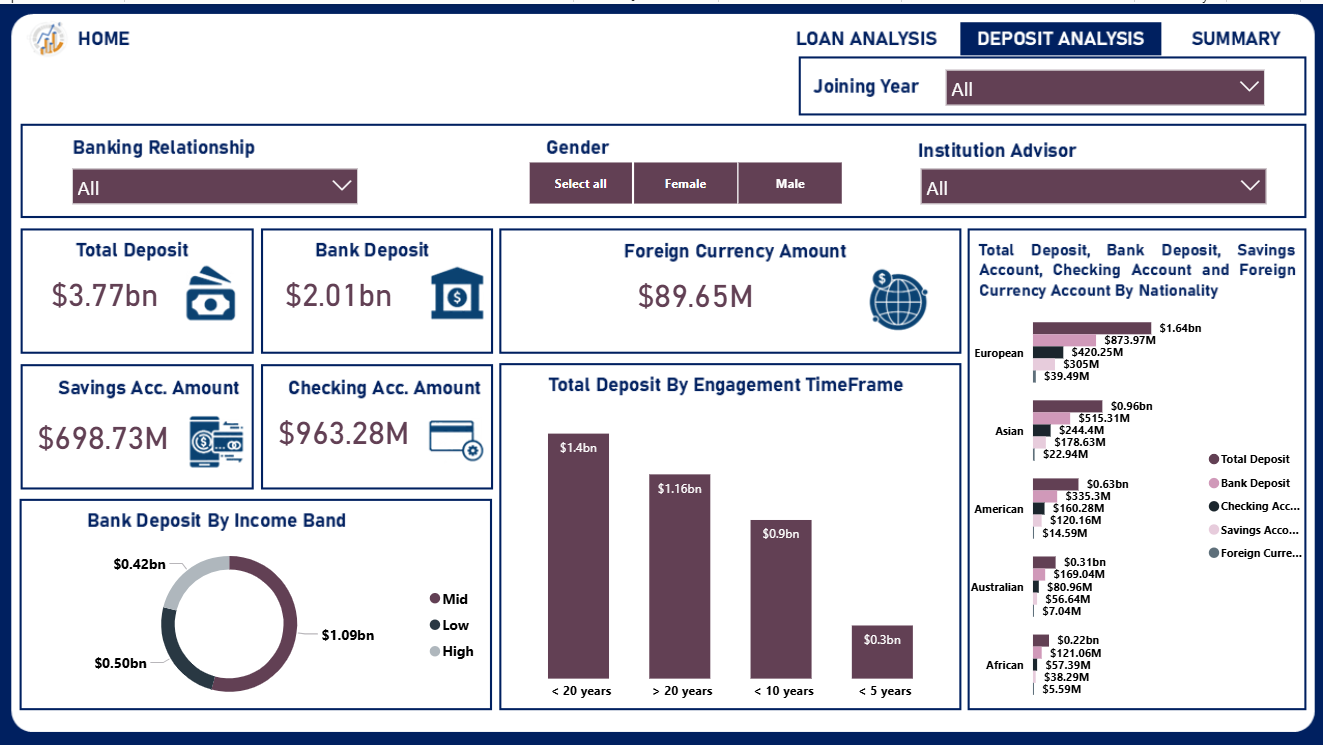

What the dashboard file says about the page in this screenshot:
{"tool":"powerbi","page":{"name":"Deposit Analysis","canvas":[1280,720],"ordinal":2},"visuals":[{"type":"slicer","fields":{"Values":["banking_clients_cleaned.Joined Bank.Variation.Date Hierarchy.Year"]},"box":[902.5,52.5,328.8,50],"z":0},{"type":"card","fields":{"Values":["Dax Measures.Bank Deposit"]},"box":[240,245,173.8,68.8],"z":1000},{"type":"card","fields":{"Values":["Dax Measures.Savings Account"]},"box":[17.5,378.8,162.5,76.2],"z":2000},{"type":"card","fields":{"Values":["Dax Measures.Checking Account"]},"box":[250,368.8,163.8,86.2],"z":3000},{"type":"card","fields":{"Values":["Dax Measures.Foreign Currency Account"]},"box":[557.5,235,227.5,88.8],"z":4000},{"type":"card","fields":{"Values":["Dax Measures.Total Deposit"]},"box":[17.5,240,166.2,78.8],"z":5000},{"type":"slicer","fields":{"Values":["banking-realtionships.Banking Relationship"]},"box":[58.8,148.8,296.2,50],"z":6000},{"type":"slicer","fields":{"Values":["gender.Gender"]},"box":[485,146.2,351.2,53.8],"z":7000},{"type":"slicer","fields":{"Values":["investment-advisiors.Investment Advisor"]},"box":[878.8,148.8,353.8,51.2],"z":8000},{"type":"clusteredBarChart","fields":{"Category":["banking_clients_cleaned.Nationality"],"Y":["Dax Measures.Total Deposit","Dax Measures.Bank Deposit","Dax Measures.Checking Account","Dax Measures.Savings Account","Dax Measures.Foreign Currency Account"]},"box":[930,263.8,341.2,440],"z":9000},{"type":"clusteredColumnChart","fields":{"Category":["banking_clients_cleaned.Engagement TimeFrame"],"Y":["Dax Measures.Total Deposit"]},"box":[485,378.8,445,302.5],"z":10000},{"type":"donutChart","fields":{"Category":["banking_clients_cleaned.Income Band"],"Y":["Dax Measures.Bank Deposit"]},"box":[23.8,508.8,447.5,178.8],"z":11000}]}

Visuals, with their boxes in screenshot pixels (x1, y1, x2, y2), scaled from the page's 1280x720 canvas onto the 1323x745 screenshot:
slicer - banking_clients_cleaned.Joined Bank.Variation.Date Hierarchy.Year: bbox=[933, 54, 1273, 106]
card - Dax Measures.Bank Deposit: bbox=[248, 254, 428, 325]
card - Dax Measures.Savings Account: bbox=[18, 392, 186, 471]
card - Dax Measures.Checking Account: bbox=[258, 382, 428, 471]
card - Dax Measures.Foreign Currency Account: bbox=[576, 243, 811, 335]
card - Dax Measures.Total Deposit: bbox=[18, 248, 190, 330]
slicer - banking-realtionships.Banking Relationship: bbox=[61, 154, 367, 206]
slicer - gender.Gender: bbox=[501, 151, 864, 207]
slicer - investment-advisiors.Investment Advisor: bbox=[908, 154, 1274, 207]
clusteredBarChart - banking_clients_cleaned.Nationality x Dax Measures.Total Deposit: bbox=[961, 273, 1314, 728]
clusteredColumnChart - banking_clients_cleaned.Engagement TimeFrame x Dax Measures.Total Deposit: bbox=[501, 392, 961, 705]
donutChart - banking_clients_cleaned.Income Band x Dax Measures.Bank Deposit: bbox=[25, 526, 487, 711]
